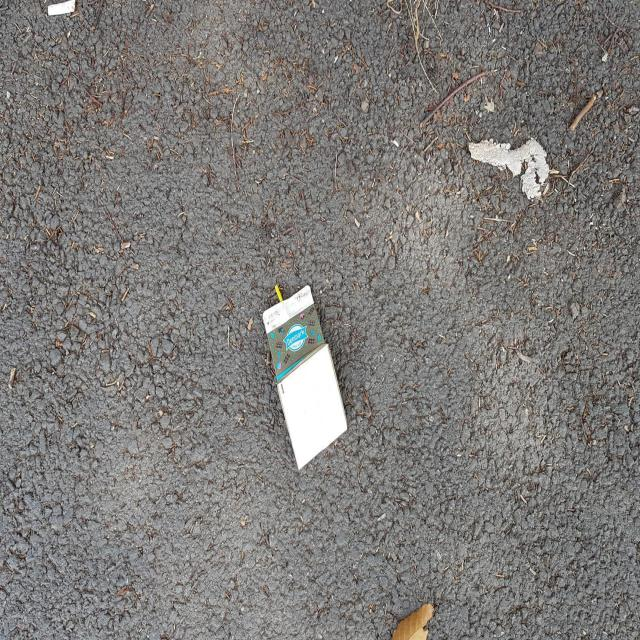paperpack: (263, 285, 347, 469)
